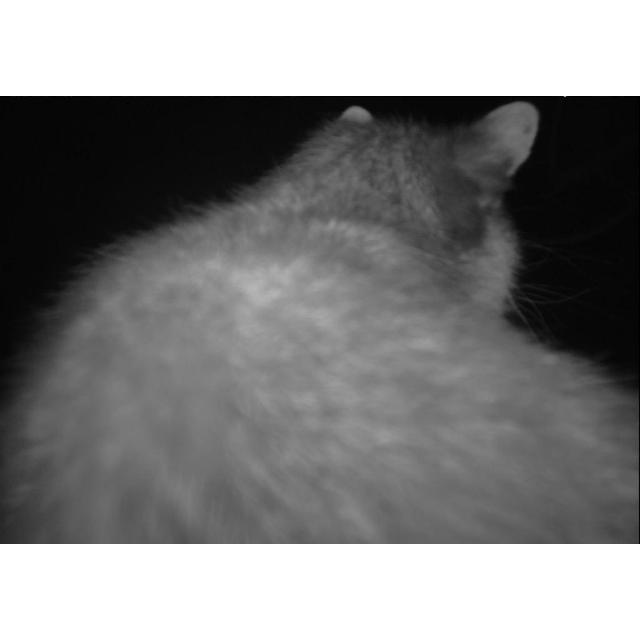animals: (6, 105, 636, 545)
